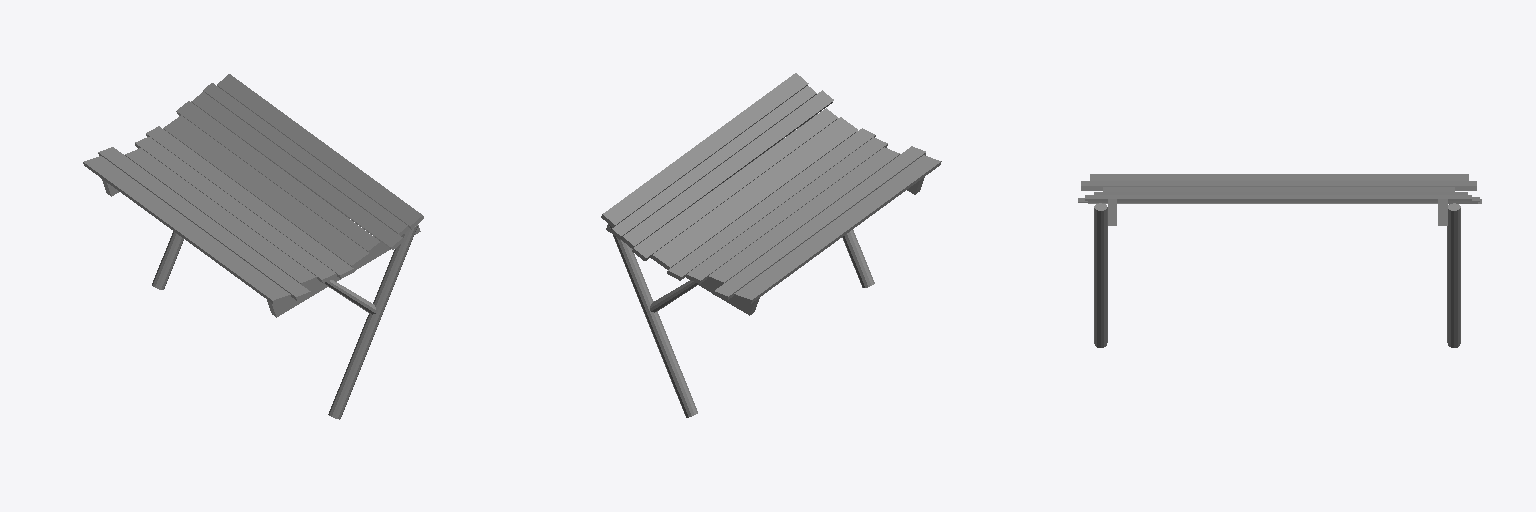
File: ramp.obj
3 views of the same model, side by side, from view 1: azimuth 30°, elevation 25°; view 2: azimuth 150°, elevation 25°; view 3: azimuth 270°, elevation 25° (orthographic).
Parts seen in each view (by area): view 1: Ramp_1; view 2: Ramp_1; view 3: Ramp_1.
Boxes of the visible parts, x1=… form: Ramp_1: x1=83, y1=74, x2=423, y2=419; Ramp_1: x1=601, y1=73, x2=941, y2=417; Ramp_1: x1=1078, y1=174, x2=1481, y2=347.
Size of the model in its own units: 22.71 by 26.33 by 50.52.